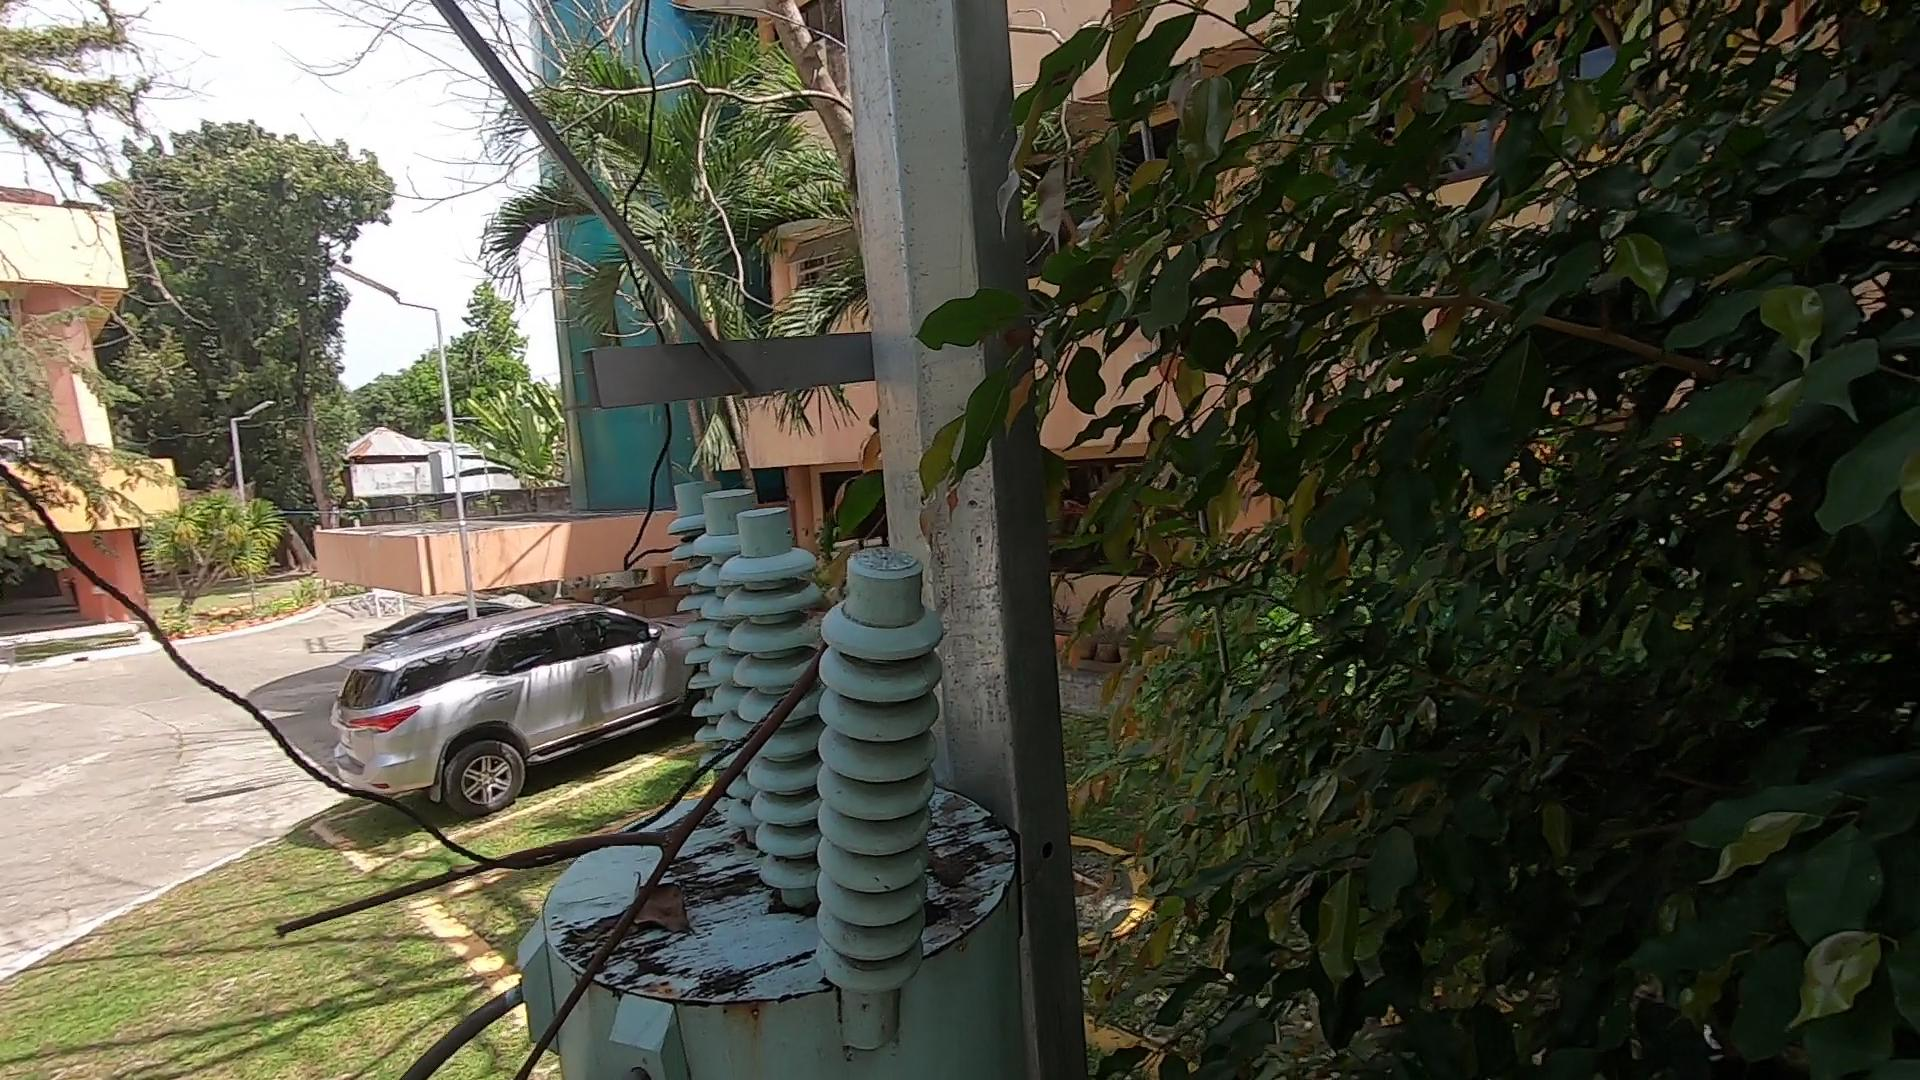leaf: (622, 858, 711, 959)
tree branch: (258, 628, 878, 1080)
